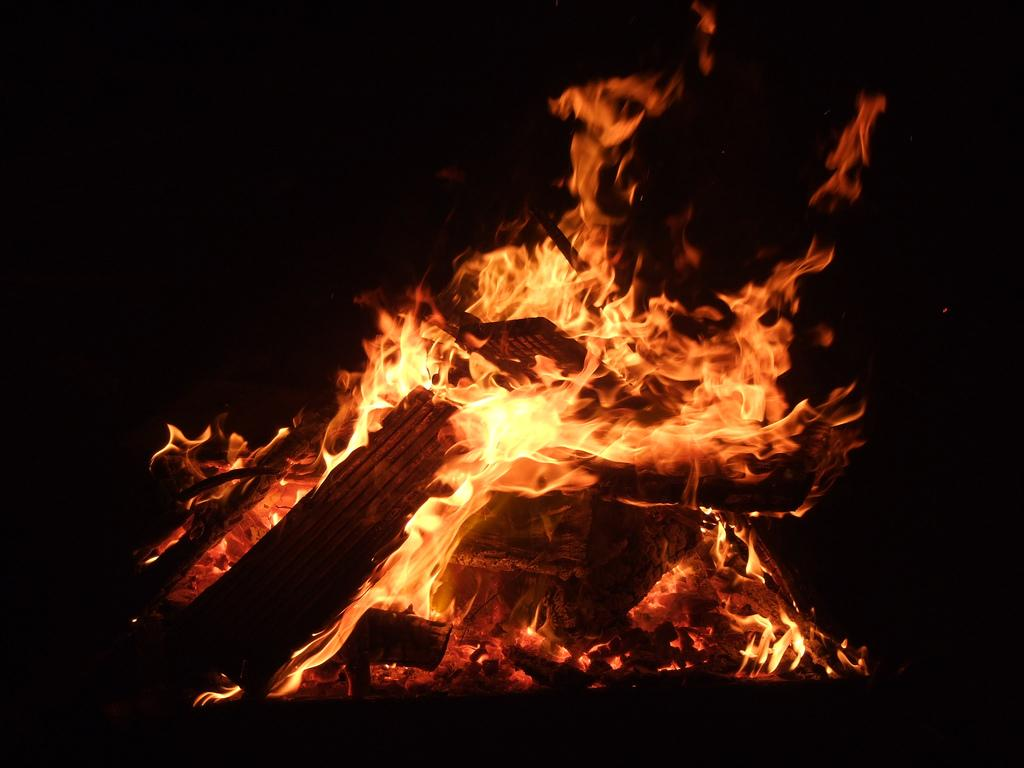fire: (700, 370, 774, 454), (478, 394, 552, 470), (496, 258, 580, 314)
